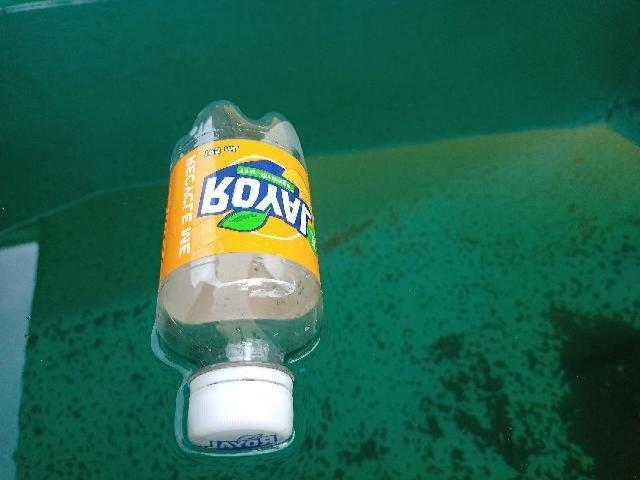Bottle: (142, 96, 330, 463)
